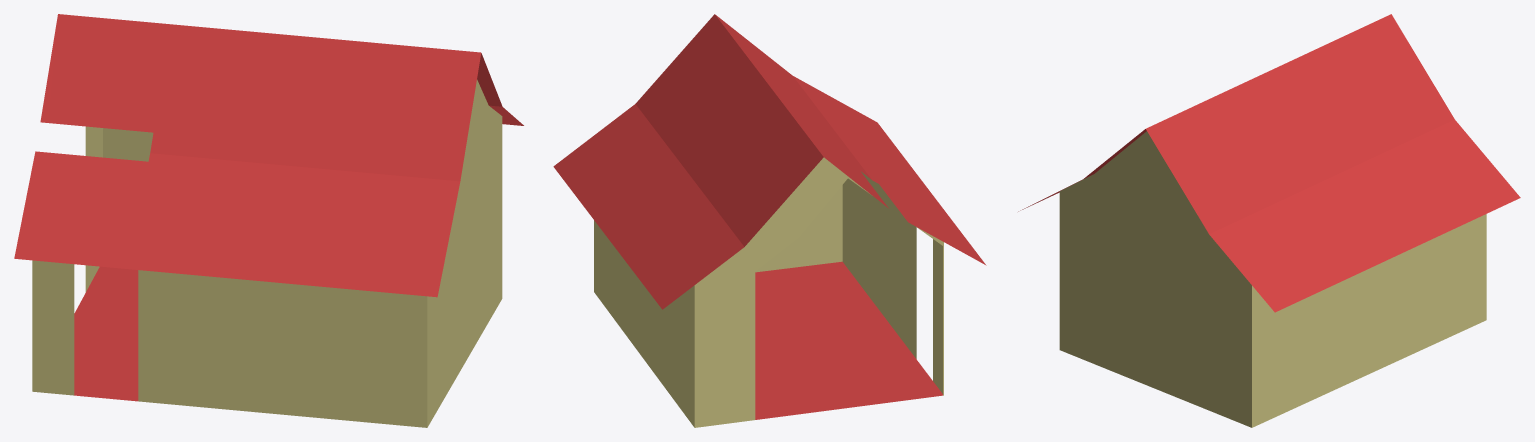
3 views of the same model, side by side, from view 1: azimuth 30°, elevation 25°; view 2: azimuth 150°, elevation 25°; view 3: azimuth 270°, elevation 25° (orthographic). The views are drawn at different scales.
Bounding box in the file's own units: 30.78 × 30.71 × 17.73.
